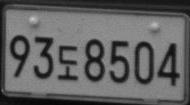0: (133, 40, 154, 85)
3: (33, 36, 54, 79)
4: (157, 42, 181, 86)
5: (108, 40, 129, 83)
8: (83, 37, 105, 82)
9: (9, 33, 30, 77)
도: (58, 44, 78, 80)
